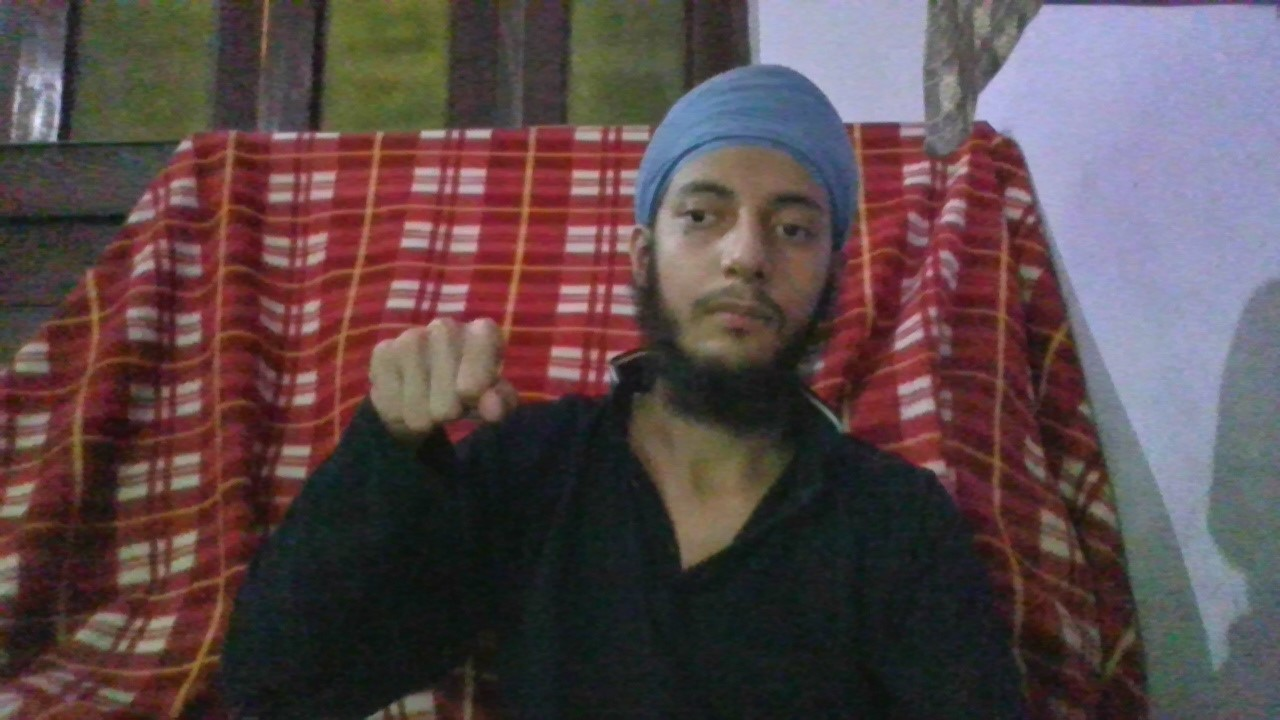Yes: (362, 316, 517, 433)
